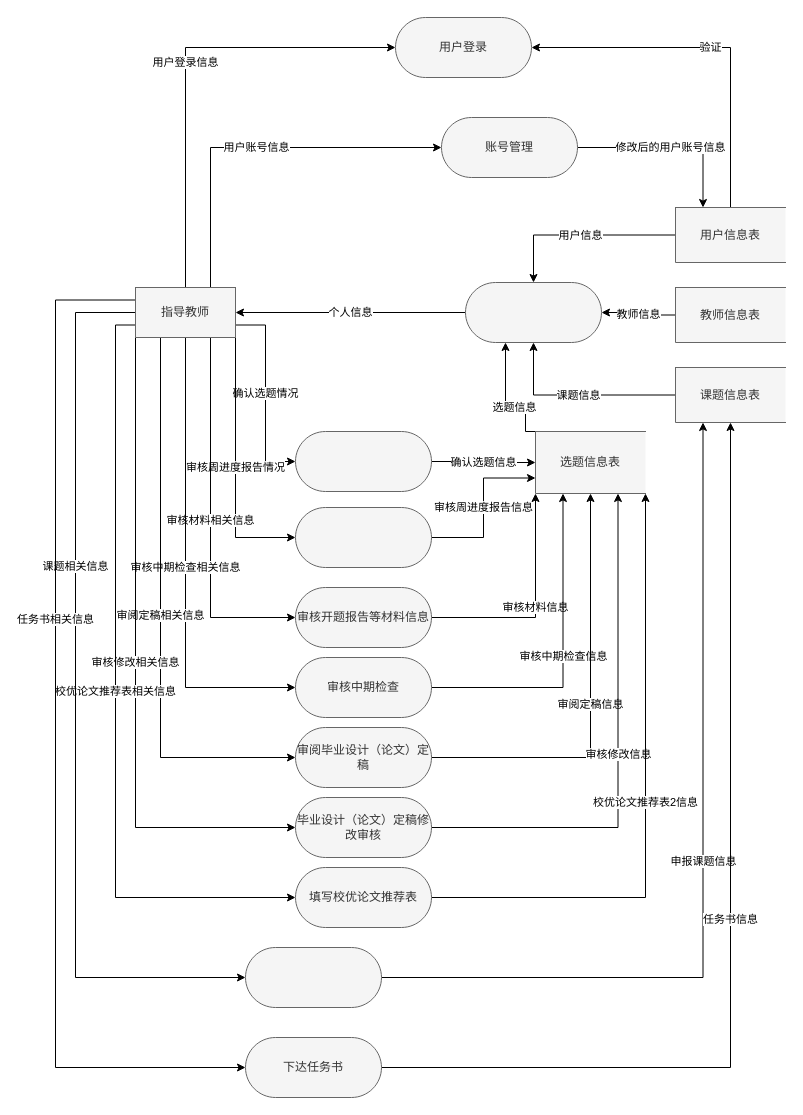
The diagram is 803 pixels wide and 1115 high, and some of its shapes have lost their labels. Each missing label, with the centre of its shape:
"审核周进度报告" belongs at [363,537].
"查看个人信息" belongs at [533,312].
"申报课题" belongs at [313,977].
"确认选题" belongs at [363,461].
